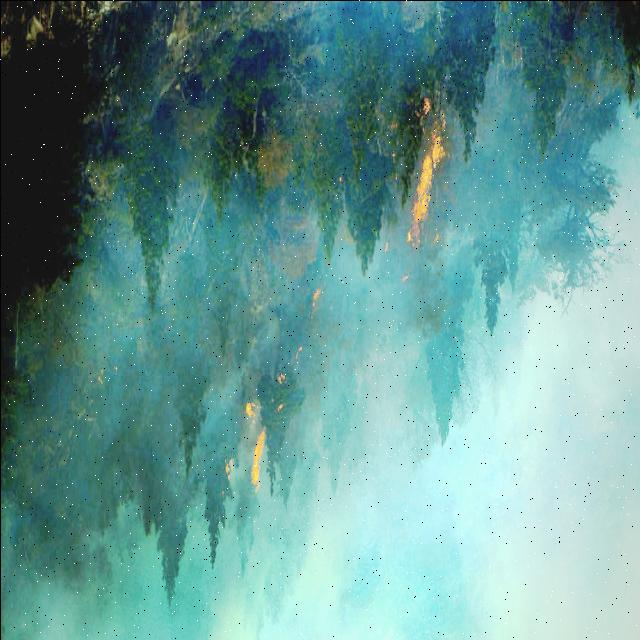api: (416, 117, 445, 227), (249, 418, 263, 486)
